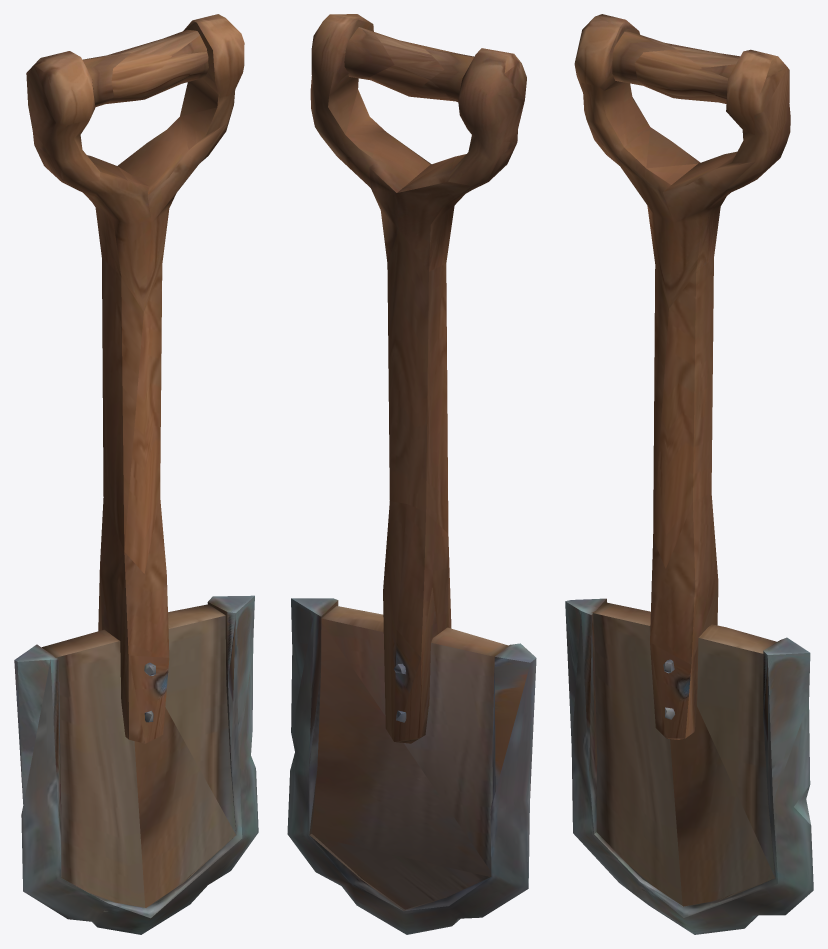
Rendered from Spade.glb.
The picture shows the model from 3 angles, left to right: view 1: azimuth 30°, elevation 25°; view 2: azimuth 150°, elevation 25°; view 3: azimuth 330°, elevation 25°; orthographic projection.
Visible parts, largest first — view 1: Spade; view 2: Spade; view 3: Spade.
Part boxes in pixels (bbox=[...]): Spade: bbox=[14, 14, 258, 934]; Spade: bbox=[287, 14, 536, 934]; Spade: bbox=[565, 14, 813, 934].
Bounding box in the file's own units: 0.37 × 1.3 × 0.11.
Materials: 1 (1 with a texture image).
